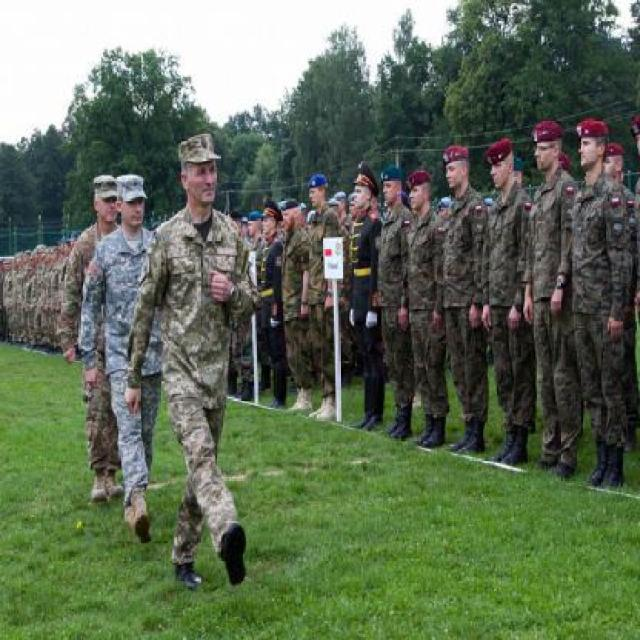Person: (123, 134, 259, 589), (76, 173, 164, 547), (572, 118, 633, 490), (522, 117, 582, 480), (54, 173, 120, 502), (479, 140, 533, 466), (440, 142, 488, 456), (407, 170, 450, 448), (0, 230, 83, 362), (377, 166, 415, 442), (603, 143, 635, 452), (350, 160, 382, 434), (309, 173, 340, 424), (259, 192, 286, 410), (282, 196, 309, 412), (230, 209, 252, 402), (247, 209, 268, 388), (632, 114, 639, 323)
